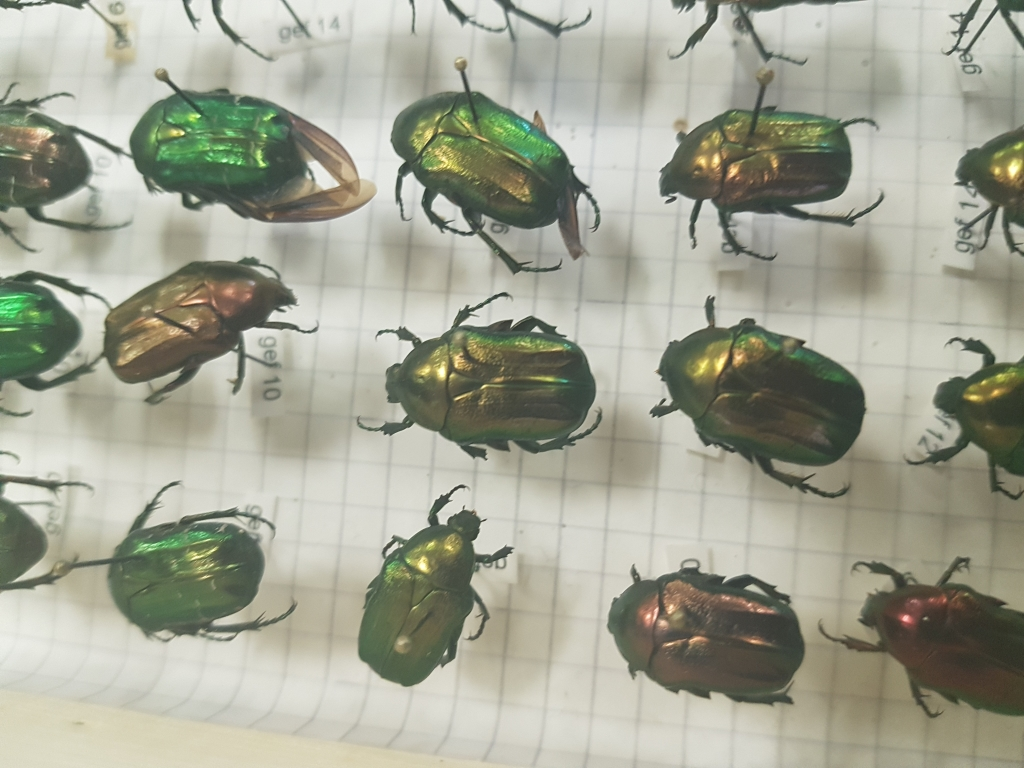Cetonia_aurata: (347, 279, 615, 479), (648, 287, 878, 520), (595, 551, 827, 727), (342, 480, 525, 687)
